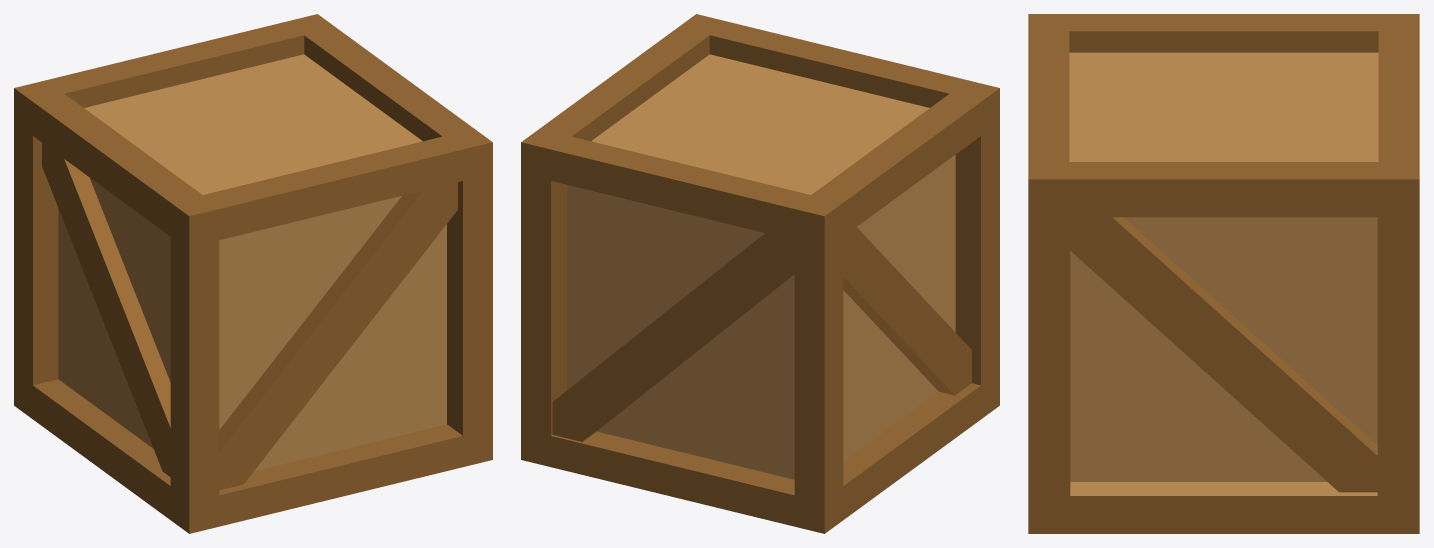
The model's file is WoodenCrateV1.0.fbx.
3 renders of one model, left to right at view 1: azimuth 30°, elevation 25°; view 2: azimuth 150°, elevation 25°; view 3: azimuth 270°, elevation 25°, orthographic. The views are drawn at different scales.
Visible parts, largest first — view 1: Crate0.1; view 2: Crate0.1; view 3: Crate0.1.
Boxes of the visible parts, x1,y1,x2,y2 form: Crate0.1: (14,14,492,533); Crate0.1: (521,14,999,533); Crate0.1: (1028,14,1419,533).
Bounding box in the file's own units: 262 × 262 × 262.
